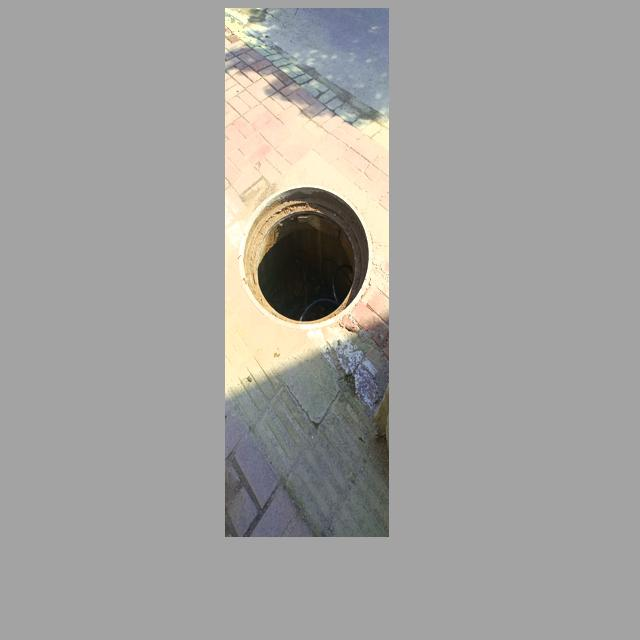lose: (240, 184, 373, 329)
